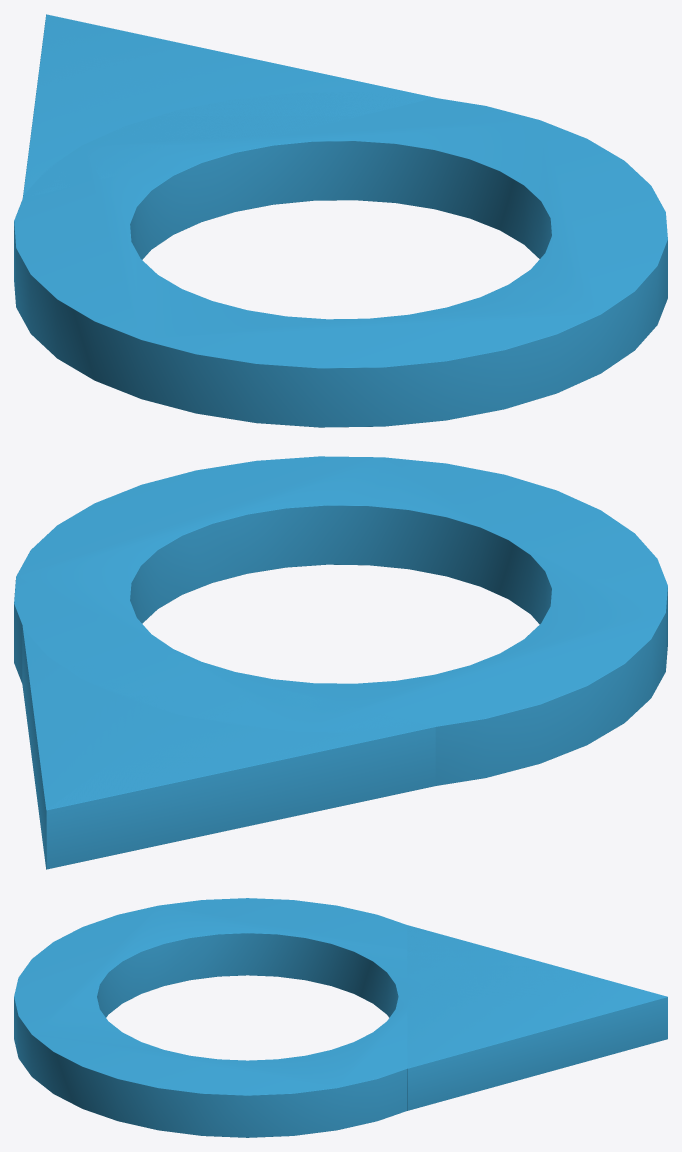
Rendered from poi_blue.glb.
3 views of the same model, one above another, from view 1: azimuth 30°, elevation 25°; view 2: azimuth 150°, elevation 25°; view 3: azimuth 270°, elevation 25° (orthographic). The views are drawn at different scales.
Visible parts, largest first — view 1: Cube; view 2: Cube; view 3: Cube.
Boxes of the visible parts, x1=… form: Cube: x1=14, y1=14, x2=667, y2=427; Cube: x1=14, y1=456, x2=667, y2=869; Cube: x1=14, y1=898, x2=667, y2=1137.
Bounding box in the file's own units: 2 × 0.2 × 2.8.
